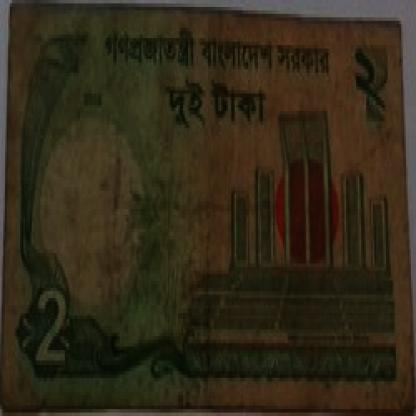two taka: (158, 66, 268, 135), (25, 281, 93, 392)
